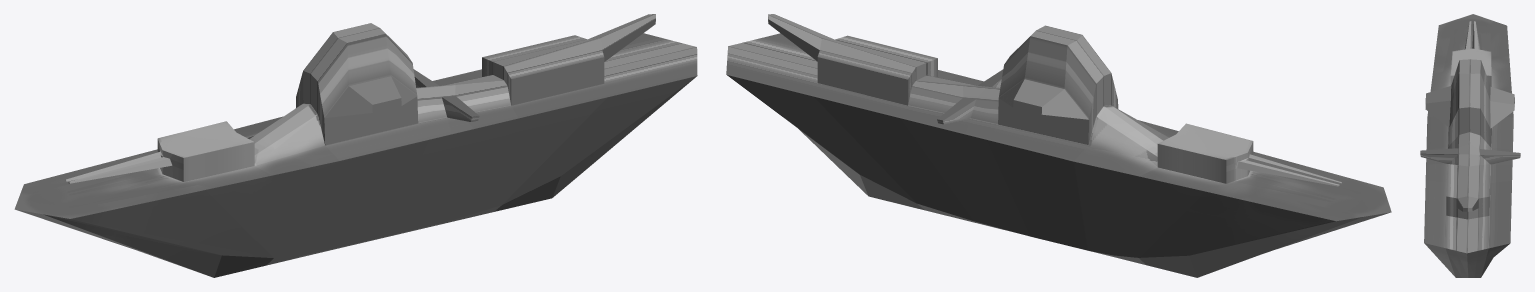
File: battleship2.gltf
The picture shows the model from 3 angles, left to right: view 1: azimuth 30°, elevation 25°; view 2: azimuth 150°, elevation 25°; view 3: azimuth 270°, elevation 25°; orthographic projection. The views are drawn at different scales.
Parts seen in each view (by area): view 1: Cube; view 2: Cube; view 3: Cube.
Part boxes in pixels (x1,y1,x2,y2): Cube: [14, 14, 697, 277]; Cube: [726, 14, 1391, 277]; Cube: [1420, 14, 1520, 277].
Size of the model in its own units: 1.16 by 0.3315 by 0.2063.
Materials: 1 (1 with a texture image).
